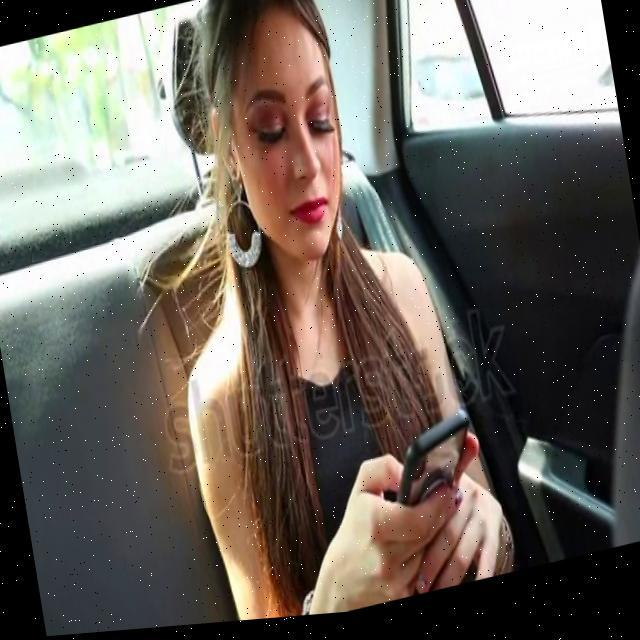PhoneCall: (388, 409, 487, 570)
